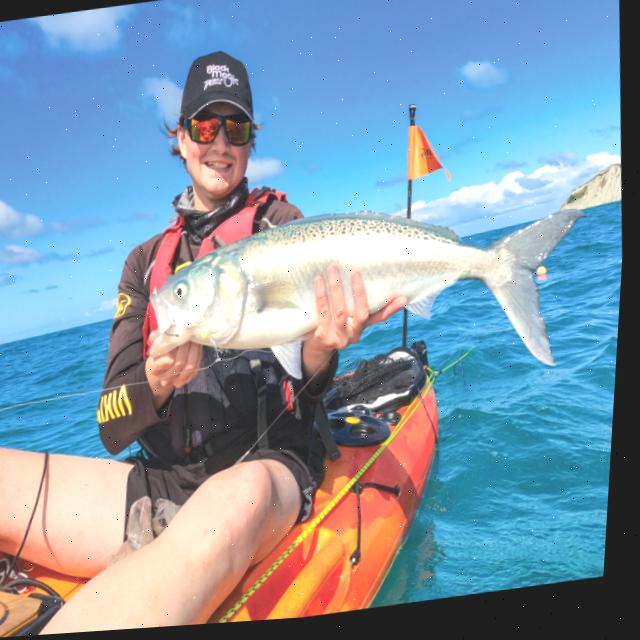Australian Salmon: (137, 179, 605, 434)
